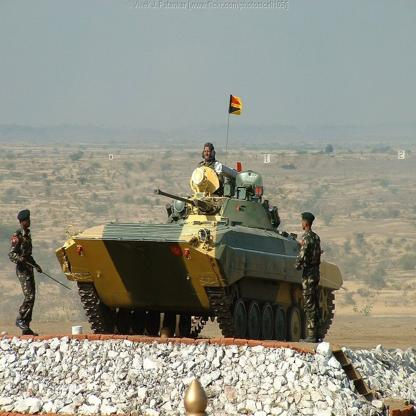Tank: (55, 140, 363, 347)
